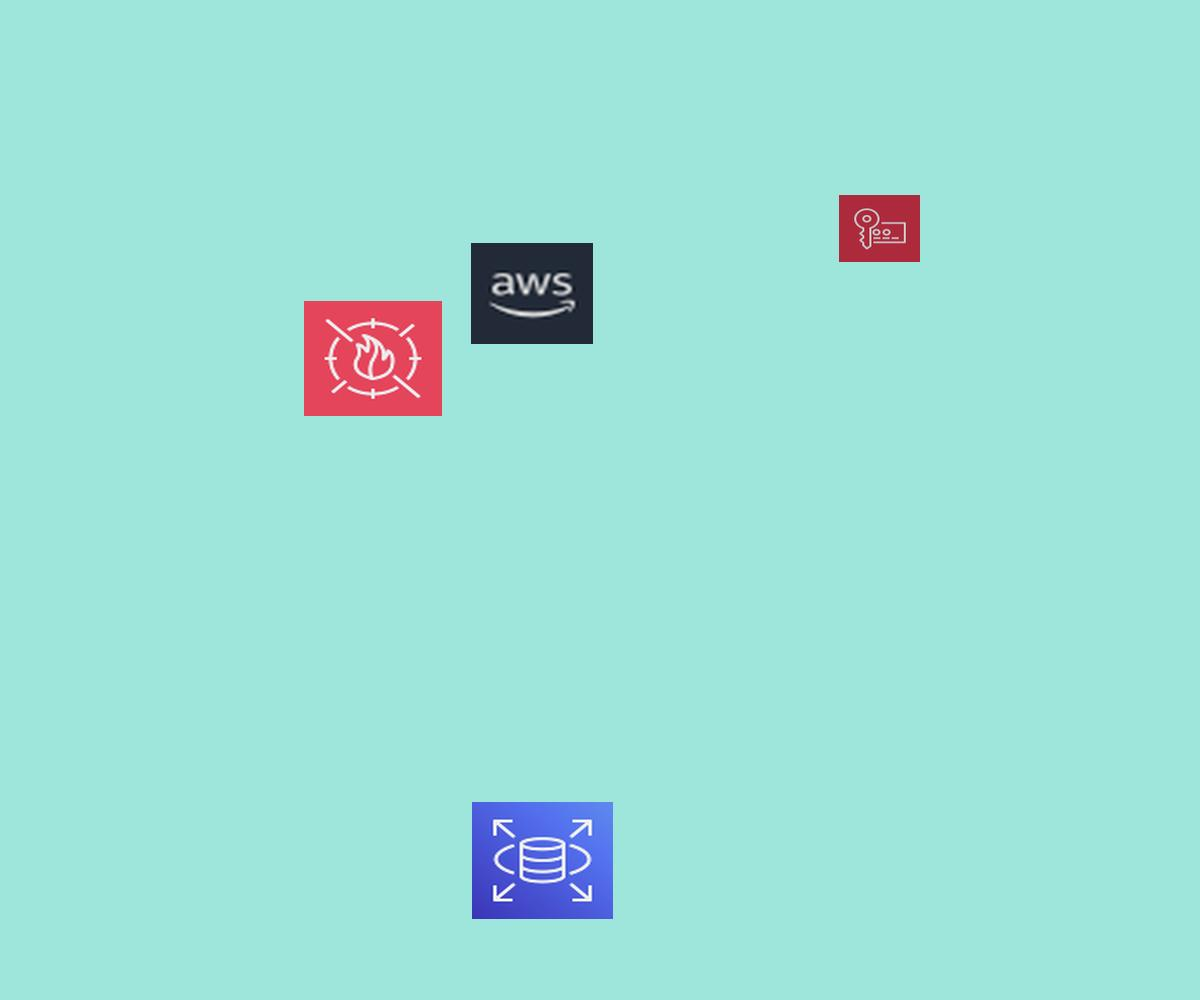AWS-Cloud-logo: (471, 243, 593, 344)
AWS-Key-Management-Service: (839, 195, 920, 262)
AWS-RDS: (472, 802, 613, 919)
AWS-WAF: (304, 301, 442, 416)
